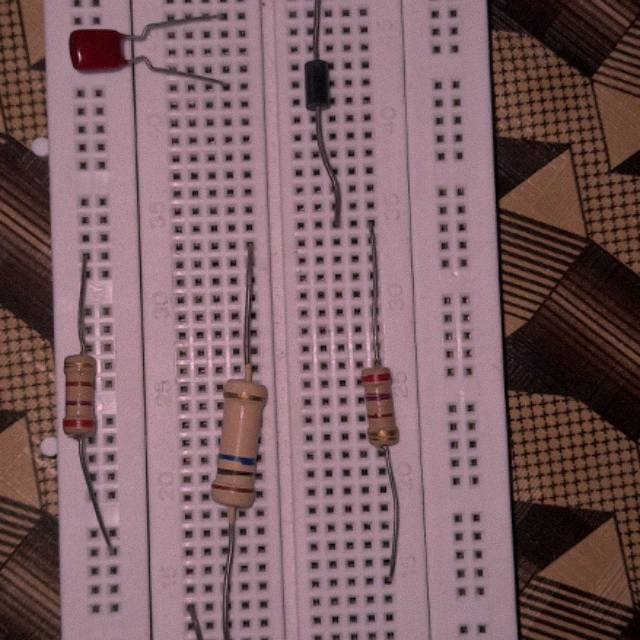capacitor: (64, 26, 129, 76)
resistor: (209, 376, 270, 508), (358, 364, 402, 448), (61, 353, 100, 437)
